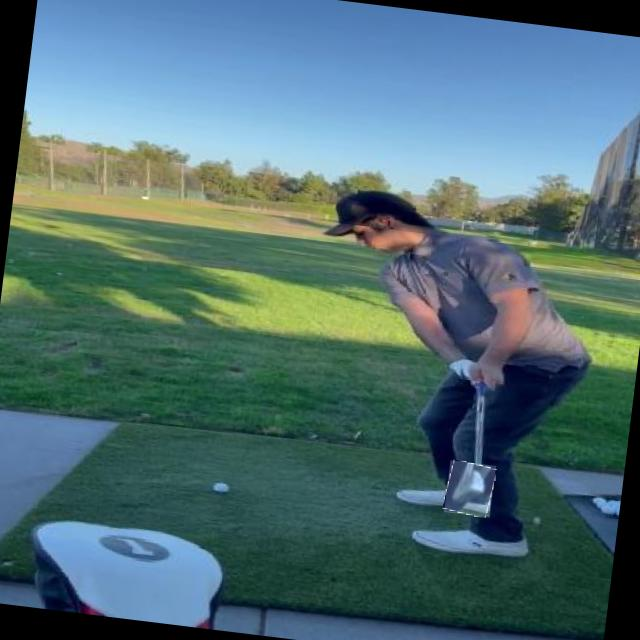club head: (444, 460, 496, 517)
